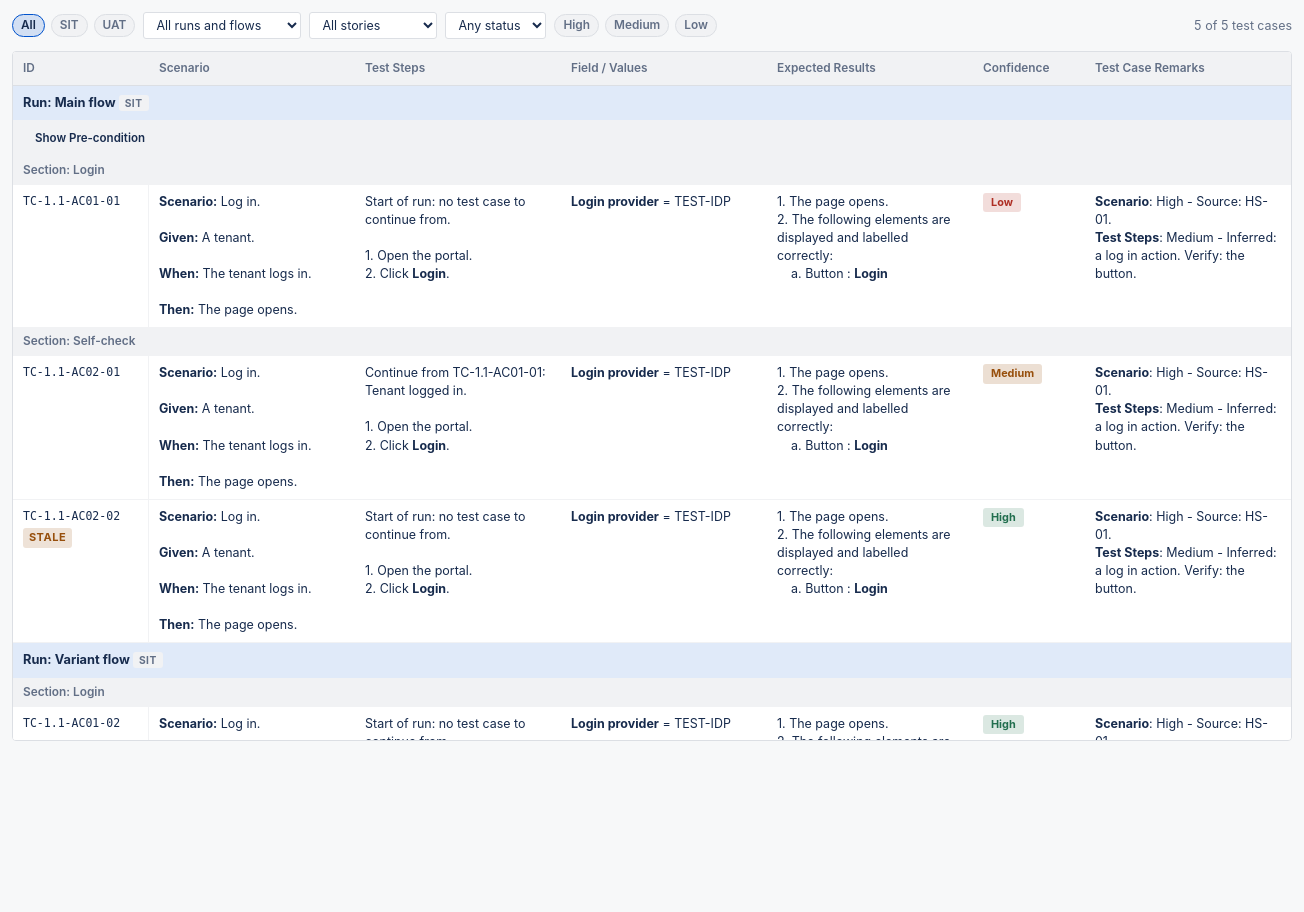
Test: TestCaseGrid supplies the panel link › claims nothing about a workbook before the inventory has been read
What coordinates should you click on to do the following:
click the row that starts with "TC-1.1-AC02-01"
I would click on:
 (652, 428)
Its box is [13, 356, 1291, 499].
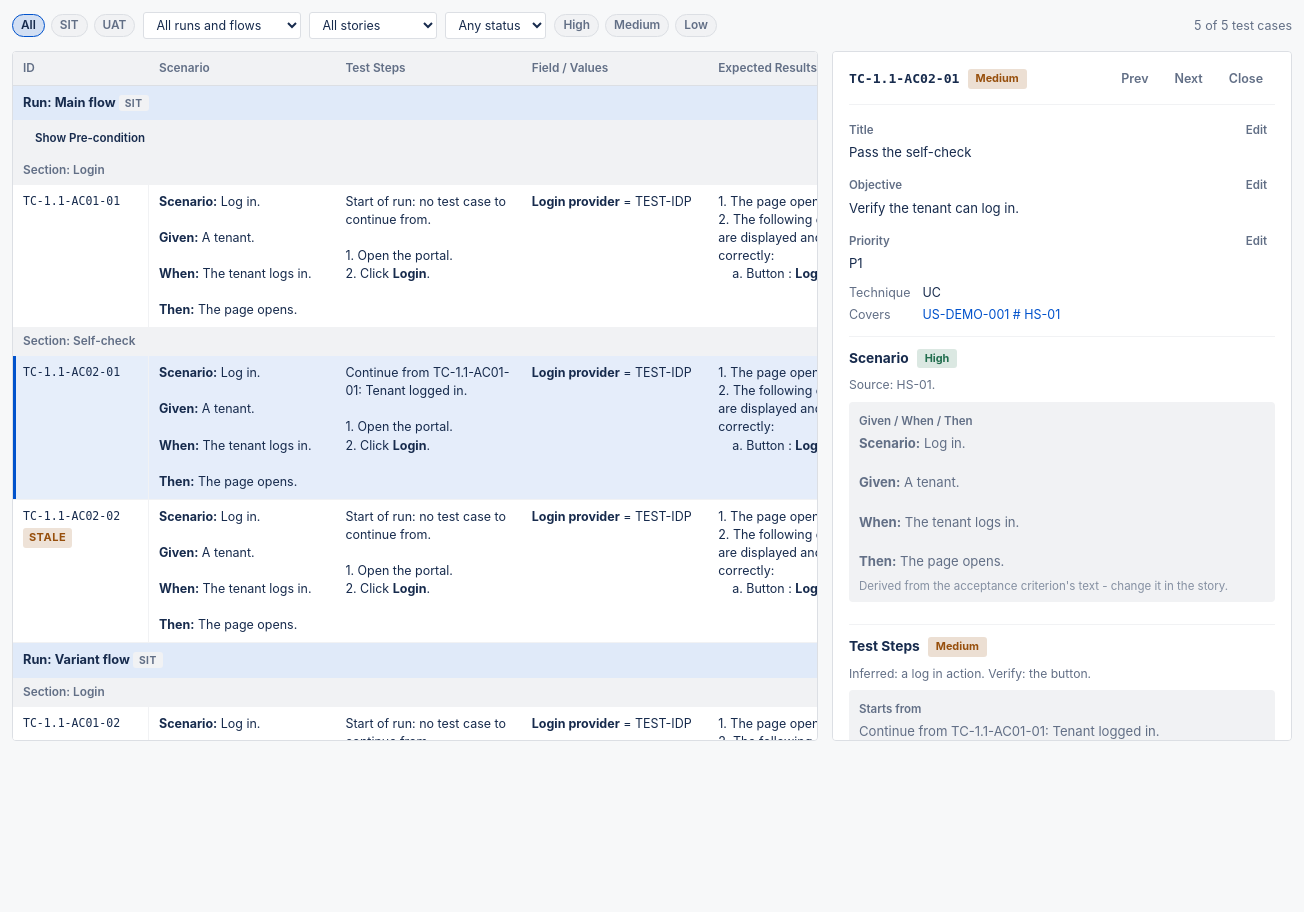
Expected: the element named "Review TC-1.1-AC02-01" is shown, [832, 51, 1292, 741]
